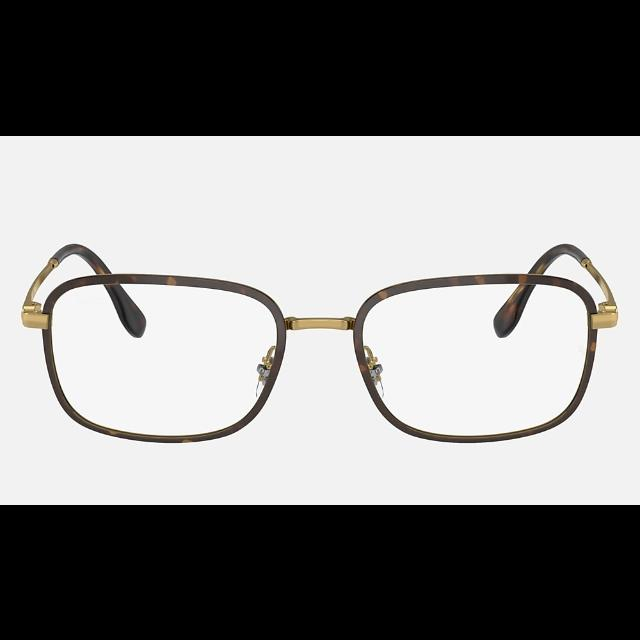glasses: (24, 241, 618, 441)
